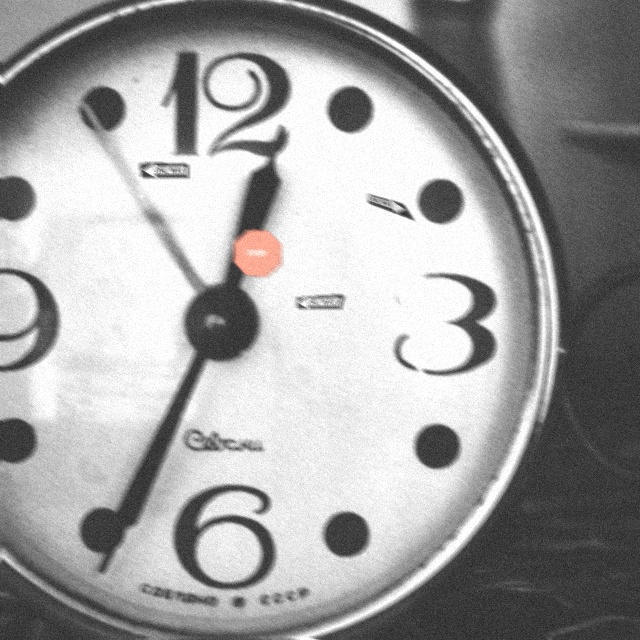ONE_WAY_ left: (294, 295, 343, 311), (138, 164, 187, 180)
ONE_WAY_ right: (365, 195, 414, 223)
STOP: (231, 231, 280, 279)
